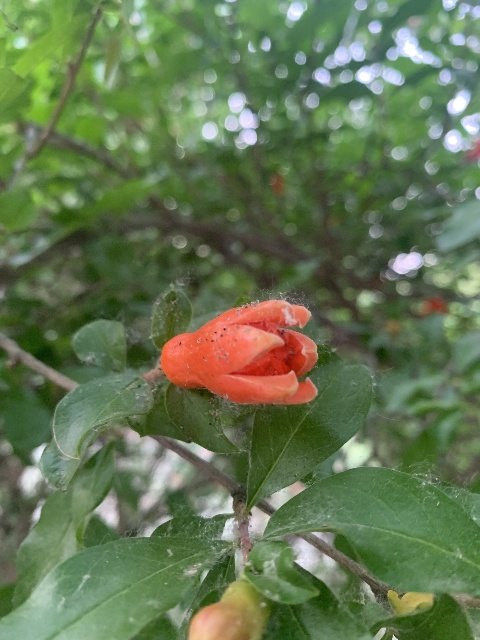flower: (160, 299, 318, 406)
